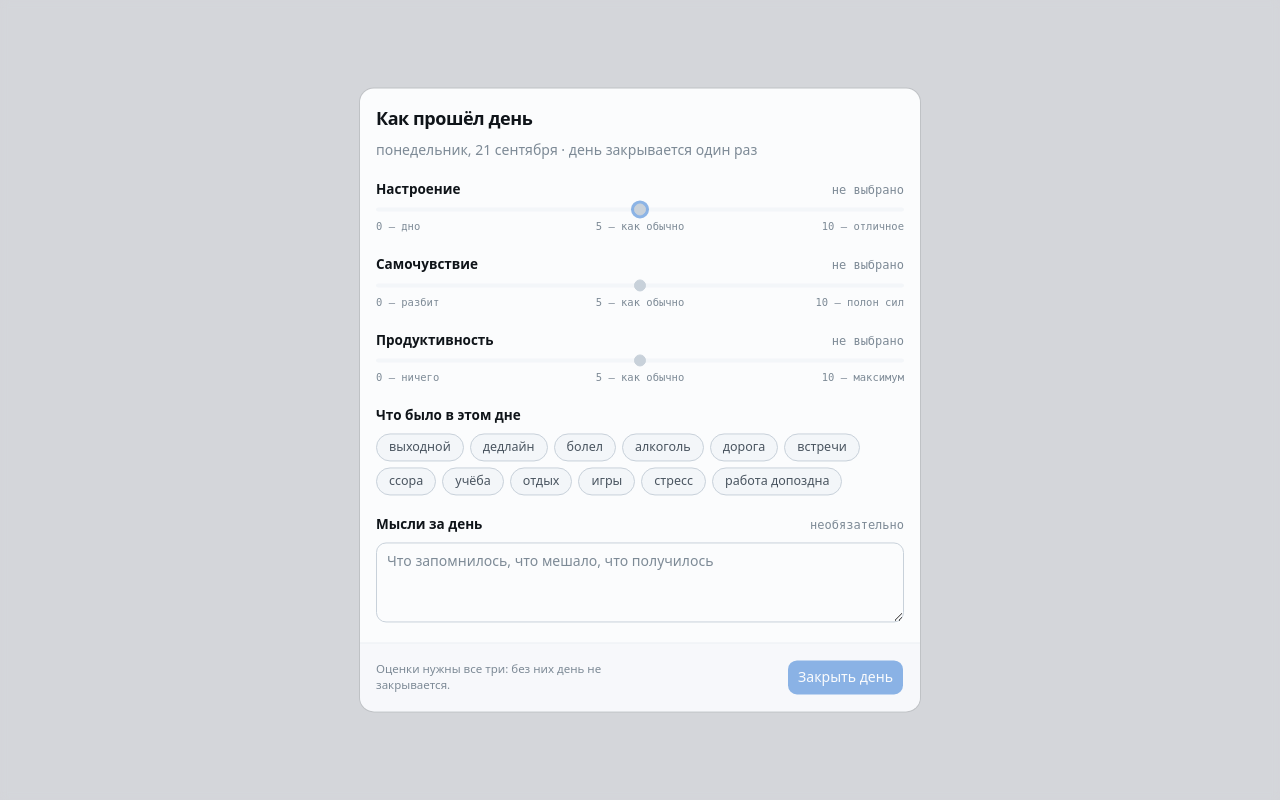
Test: окно итога дня — теги со ступенями (срез 5б) › отметка тега со ступенями открывает группу вопроса: кнопки не нажаты, подсказка и note у алкоголя
Step 1. Click the button "алкоголь" → coordinates (663, 448), box [622, 434, 704, 461]
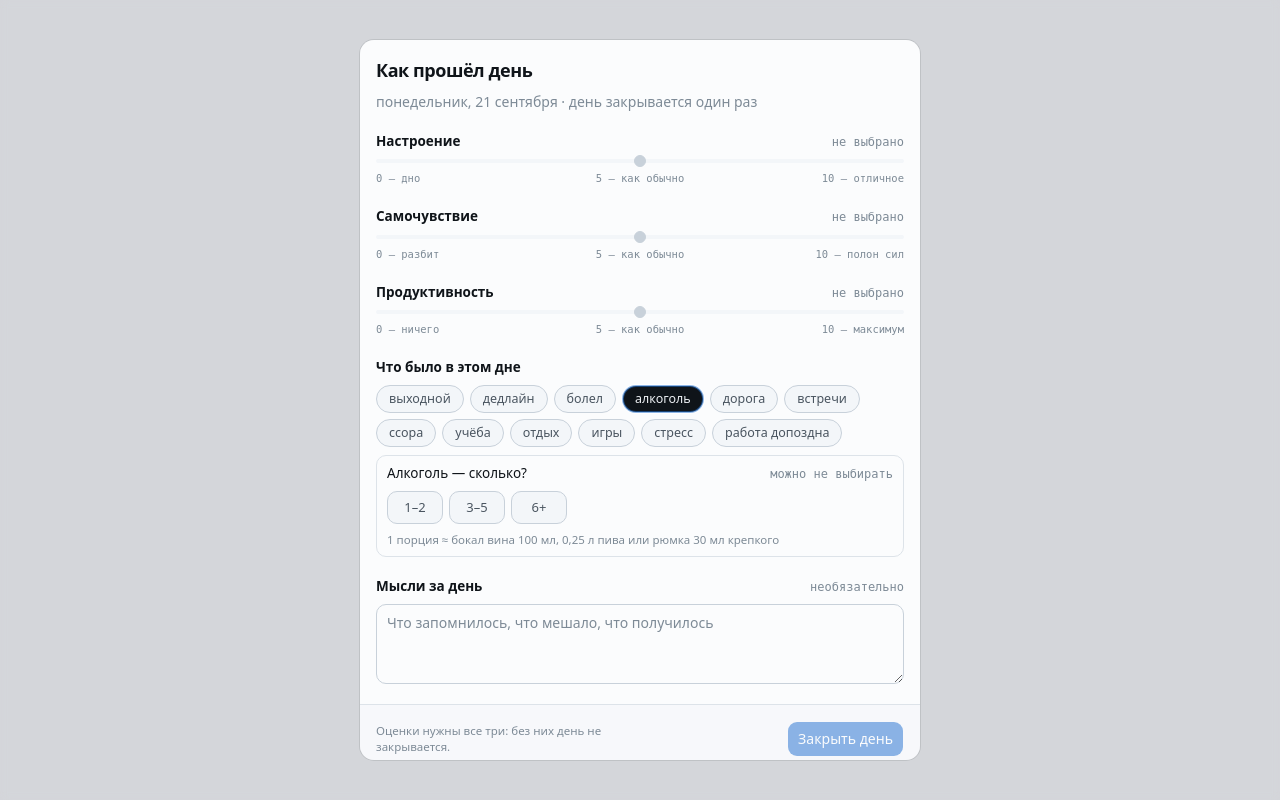
Result: the text "можно не выбирать" is shown at [770, 466, 893, 482]
Result: the text "бокал вина 100 мл" is shown at [387, 532, 779, 547]
